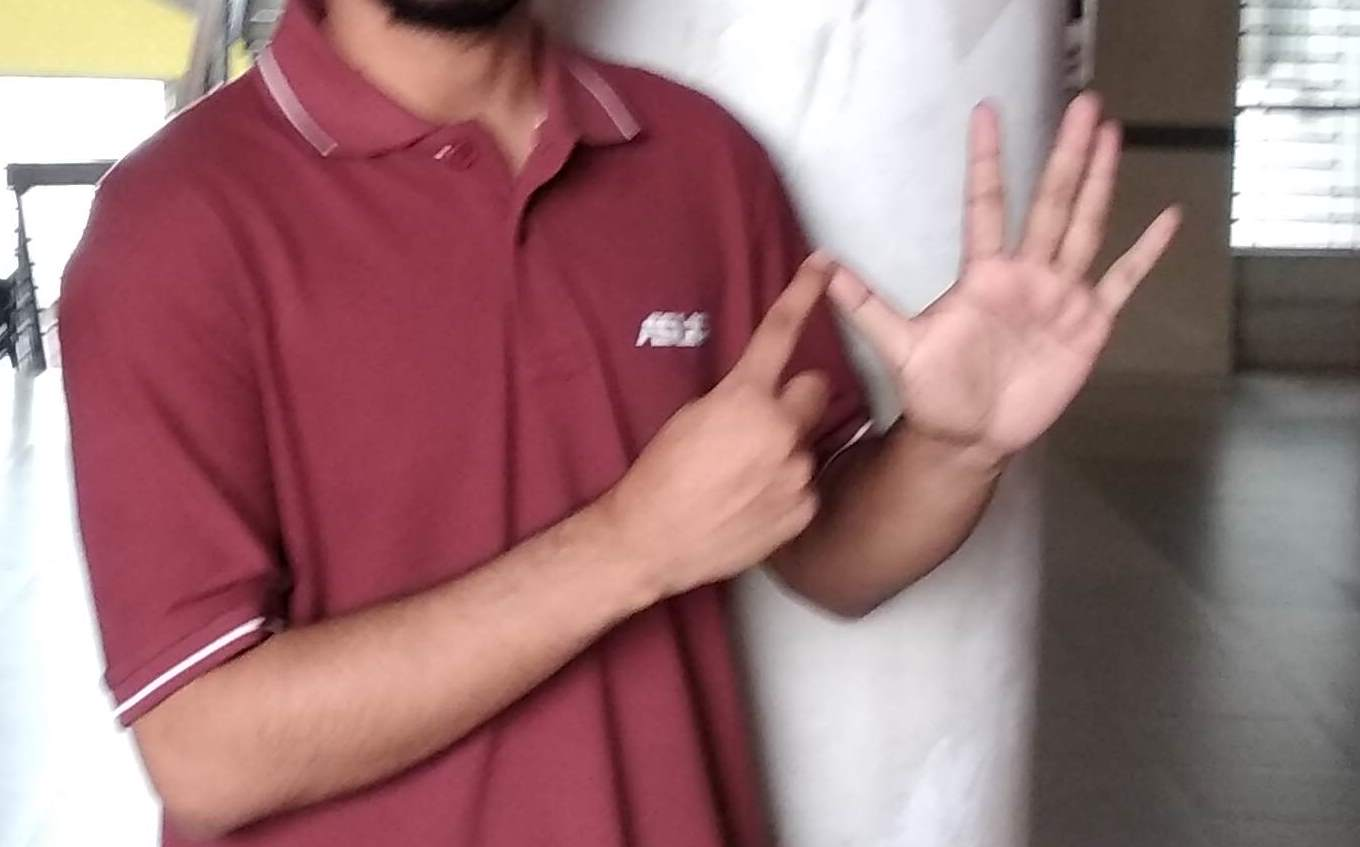a: (727, 92, 1187, 573)
